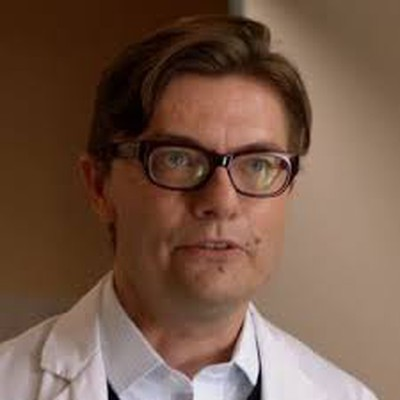eywear: (140, 124, 299, 216)
